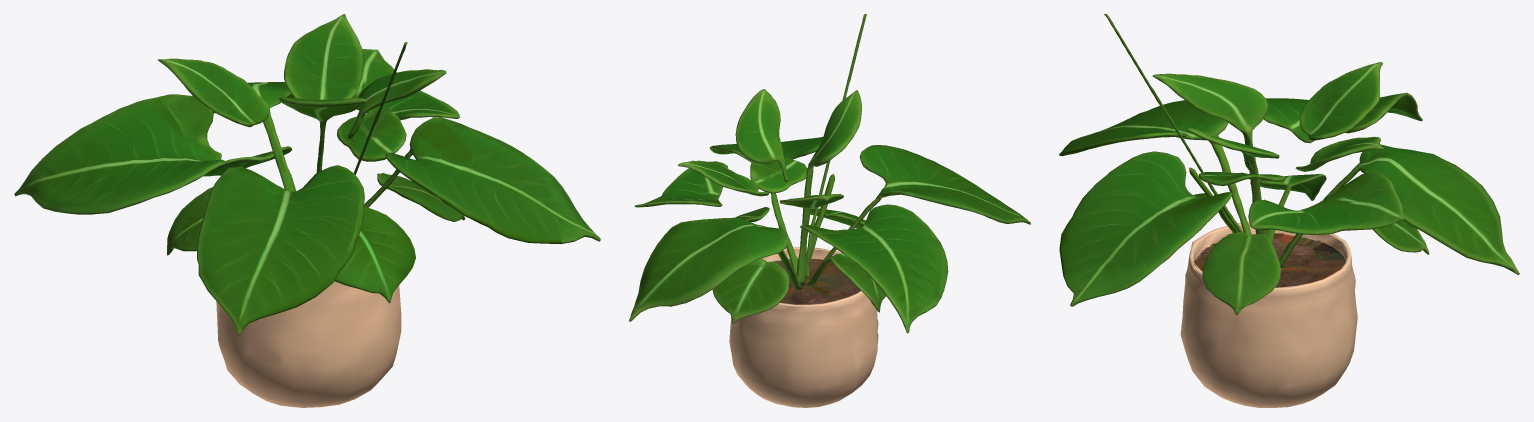
Rendered from Meshy_AI_A_stylized_low_poly_p_0430225245_texture.fbx.
The picture shows the model from 3 angles, left to right: view 1: azimuth 30°, elevation 25°; view 2: azimuth 150°, elevation 25°; view 3: azimuth 270°, elevation 25°; orthographic projection. The views are drawn at different scales.
Visible parts, largest first — view 1: Mesh_0; view 2: Mesh_0; view 3: Mesh_0.
Part boxes in pixels (x1=…): Mesh_0: x1=14, y1=14, x2=600, y2=407; Mesh_0: x1=629, y1=14, x2=1030, y2=407; Mesh_0: x1=1059, y1=14, x2=1519, y2=407.
Size of the model in its own units: 175 by 169 by 186.
Materials: 1 (1 with a texture image).
